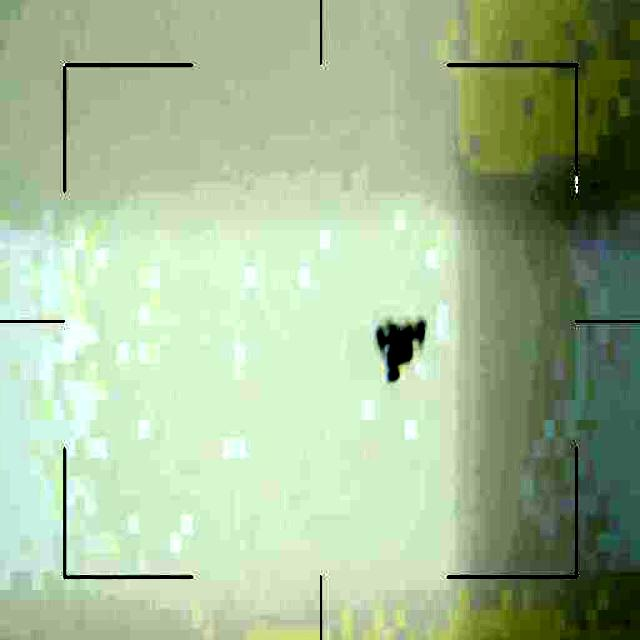bird: (369, 309, 432, 382)
